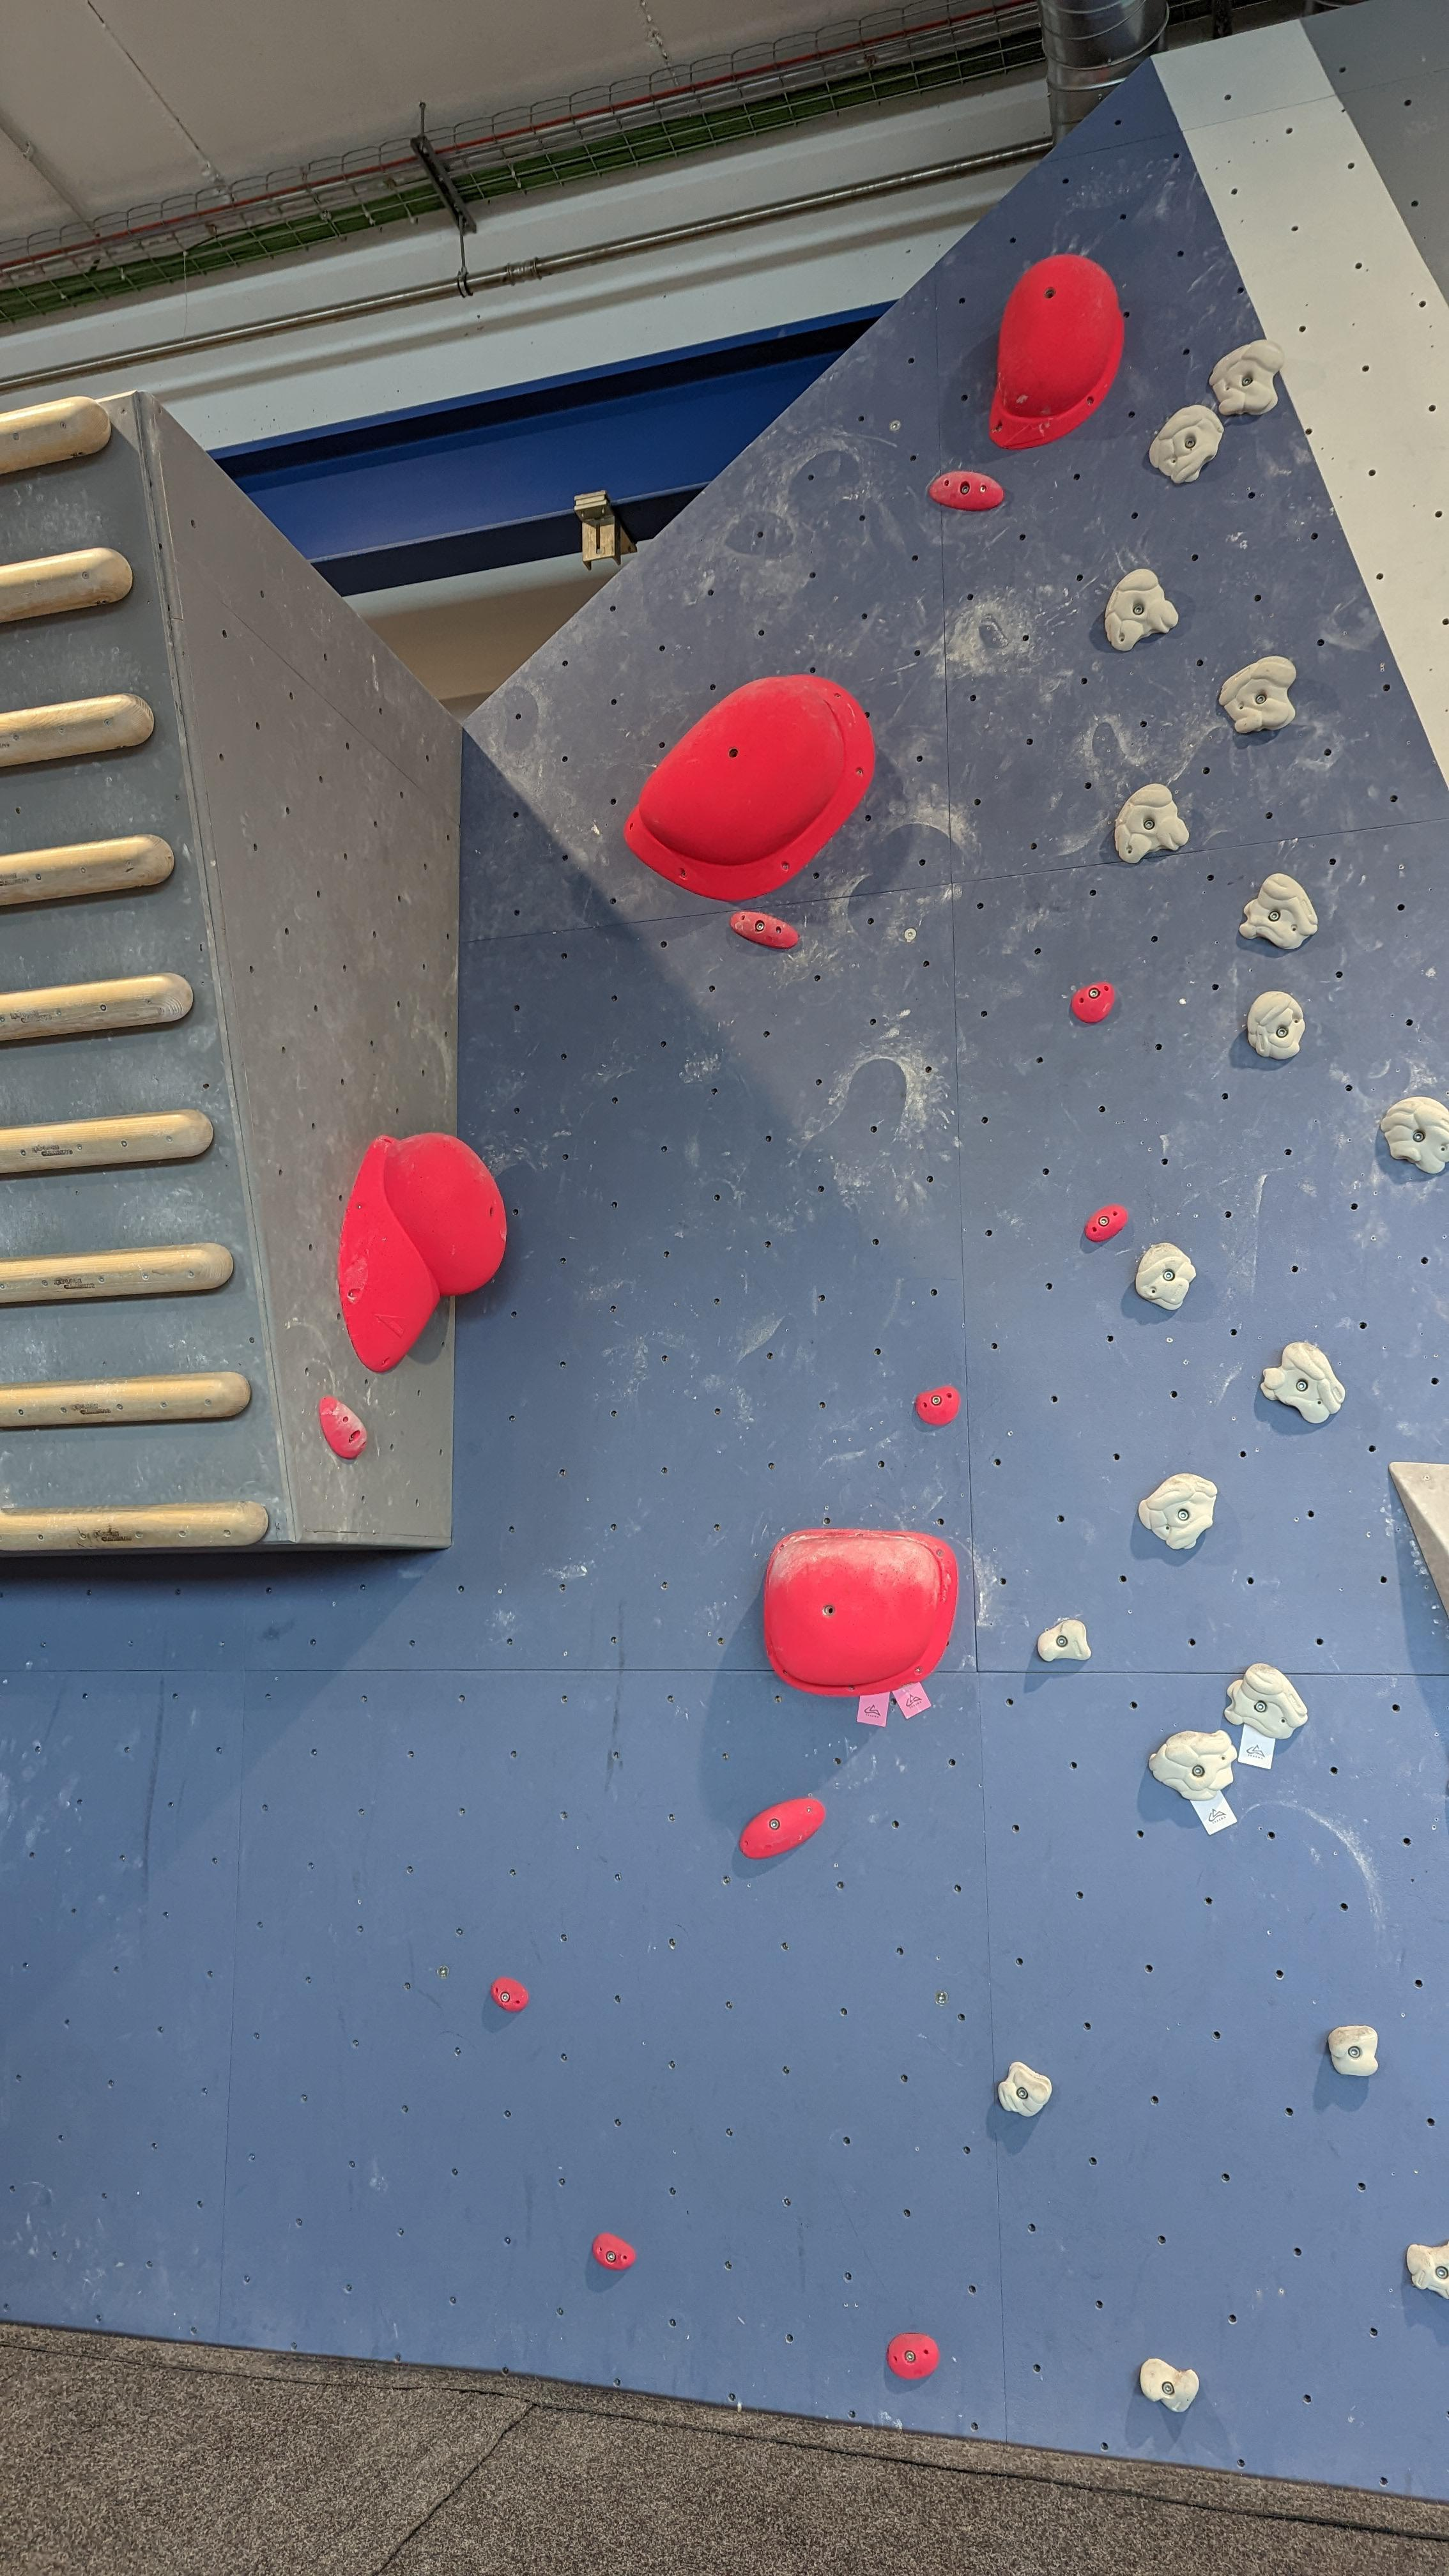hold: (623, 674, 876, 902), (338, 1132, 508, 1373), (763, 1529, 957, 1697), (989, 253, 1125, 449), (1389, 1461, 1449, 1621), (1260, 1341, 1345, 1424), (1148, 1729, 1238, 1801), (1224, 1663, 1309, 1739), (1138, 1472, 1217, 1550), (1238, 872, 1318, 950), (1104, 568, 1178, 651), (1148, 403, 1224, 483), (1115, 782, 1189, 863), (1219, 656, 1297, 732), (1208, 340, 1284, 416), (1380, 1097, 1449, 1173), (740, 1798, 824, 1858), (1136, 1242, 1196, 1311), (1247, 991, 1306, 1060), (1139, 2358, 1200, 2413), (318, 1394, 366, 1460), (929, 471, 1005, 511), (998, 2061, 1053, 2116), (1327, 2024, 1378, 2077), (729, 911, 800, 948), (885, 2332, 939, 2380), (1405, 2242, 1449, 2300), (1037, 1619, 1092, 1663), (915, 1385, 961, 1426), (1070, 982, 1115, 1023), (591, 2233, 637, 2270), (1085, 1205, 1127, 1242), (490, 1978, 529, 2013)
